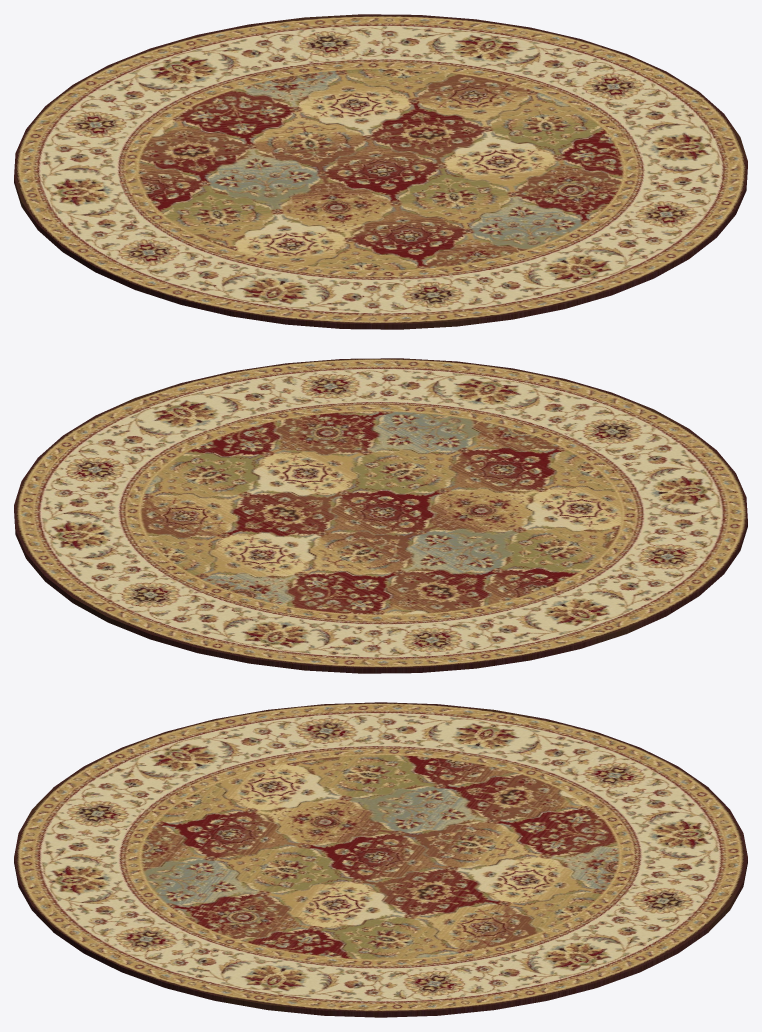
Rendered from BRrug.fbx.
3 views of the same model, one above another, from view 1: azimuth 30°, elevation 25°; view 2: azimuth 150°, elevation 25°; view 3: azimuth 270°, elevation 25° (orthographic).
Parts seen in each view (by area): view 1: pCylinder1; view 2: pCylinder1; view 3: pCylinder1.
Boxes of the visible parts, <box> form: pCylinder1: <box>14,14,747,329</box>; pCylinder1: <box>14,358,747,673</box>; pCylinder1: <box>14,702,747,1017</box>.
Size of the model in its own units: 17.28 by 0.1357 by 17.28.
Materials: 1 (1 with a texture image).
